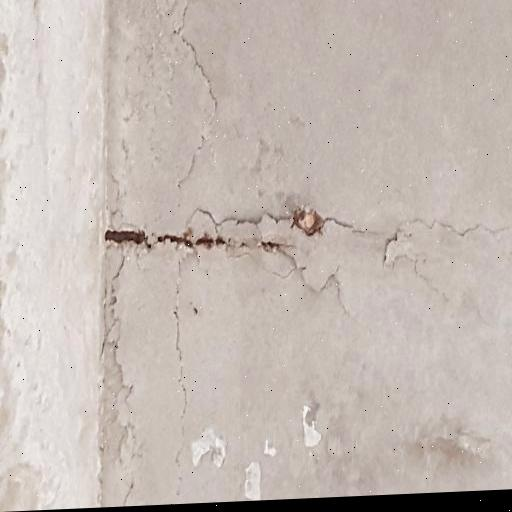exposed_rebar: (105, 230, 151, 248), (158, 234, 194, 247), (196, 234, 224, 245)
